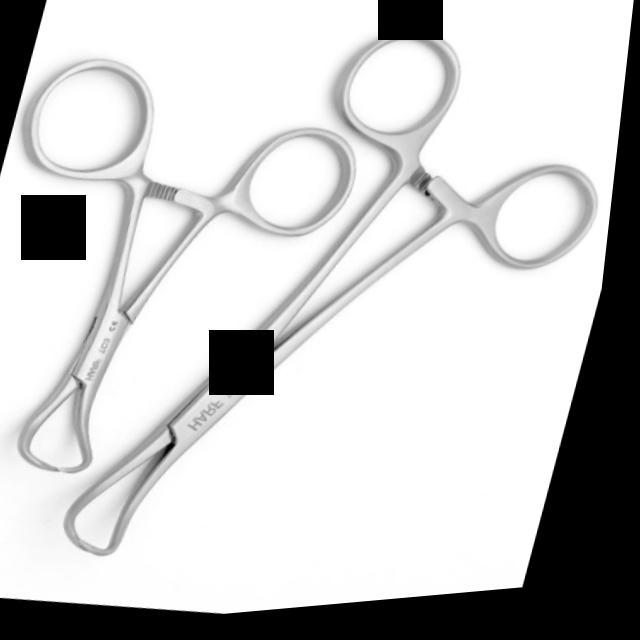Backhaus Towel Clamp: (57, 0, 637, 632), (0, 20, 389, 521)
